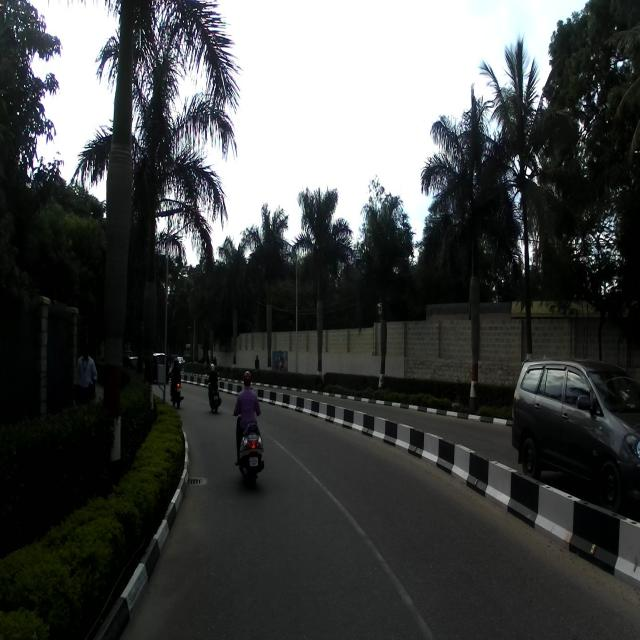car: (510, 355, 639, 521)
scooter: (231, 410, 265, 489)
